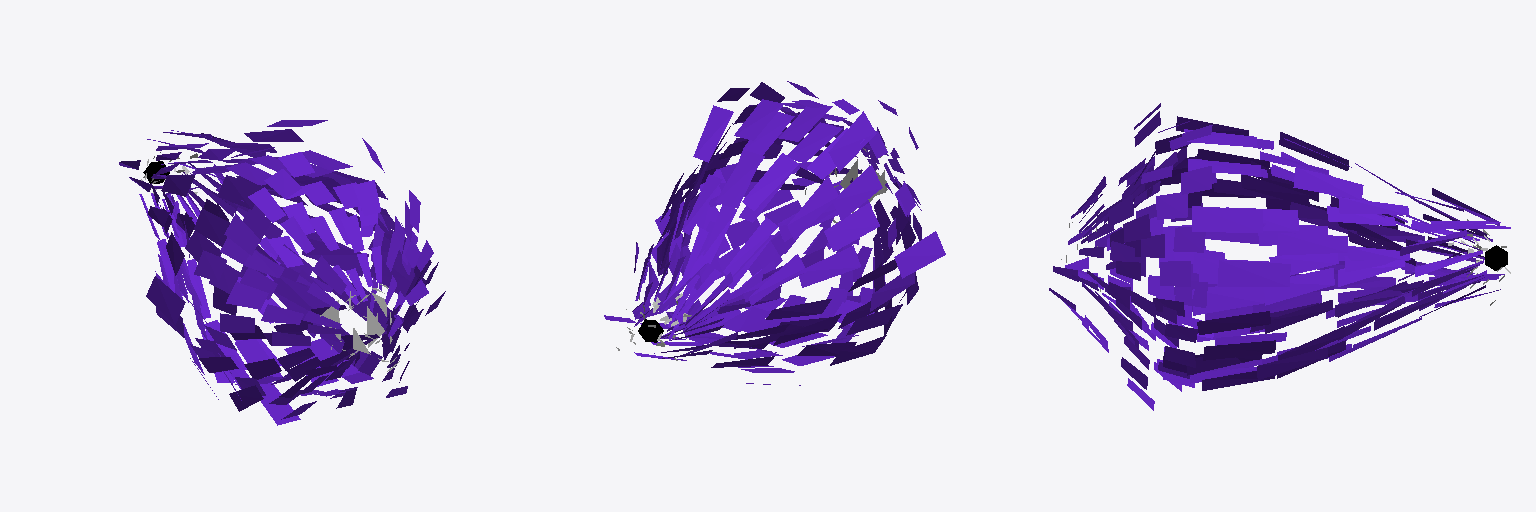
File: crash.obj
3 renders of one model, left to right at view 1: azimuth 30°, elevation 25°; view 2: azimuth 150°, elevation 25°; view 3: azimuth 270°, elevation 25°, orthographic.
Parts seen in each view (by area): view 1: Loft, Cap:1; view 2: Loft; view 3: Loft.
Part boxes in pixels (x1,y1,x2,y2): Loft: (119,120,445,425); Cap:1: (320,274,399,371); Loft: (604,81,945,385); Loft: (1049,103,1510,410).
Size of the model in its own units: 233 by 220 by 360.